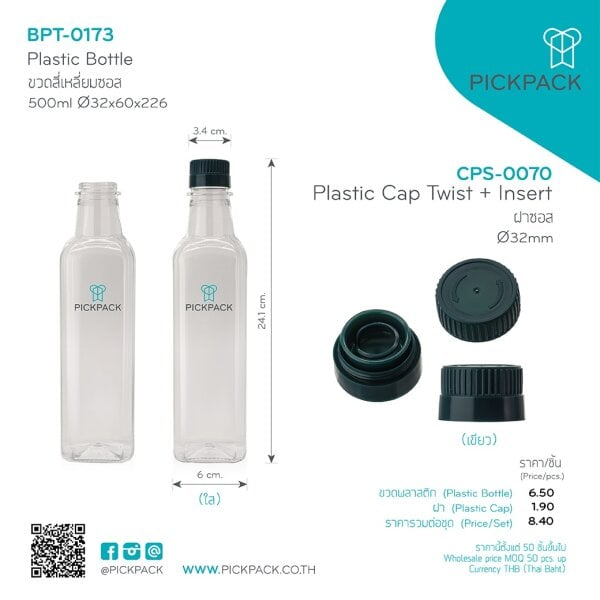plastic_bottle: (163, 148, 259, 466), (49, 167, 147, 471)
